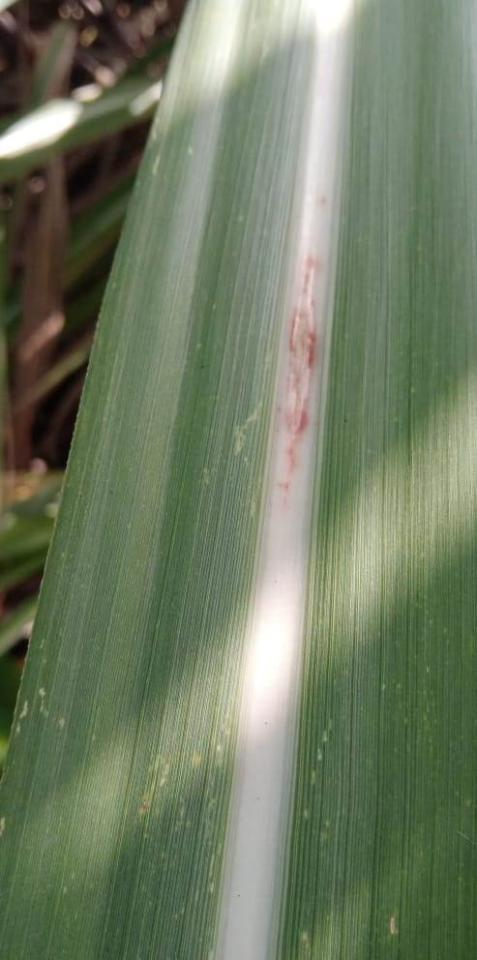RedRot: (272, 188, 331, 519)
